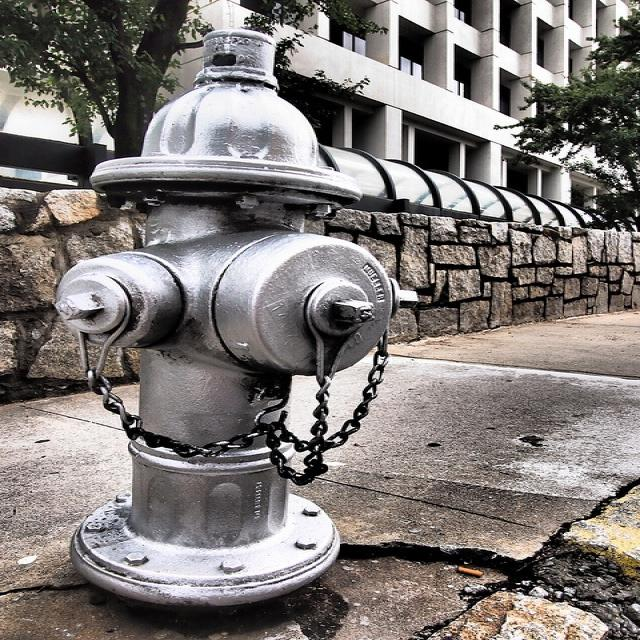fire_hydrant: (45, 26, 403, 608)
